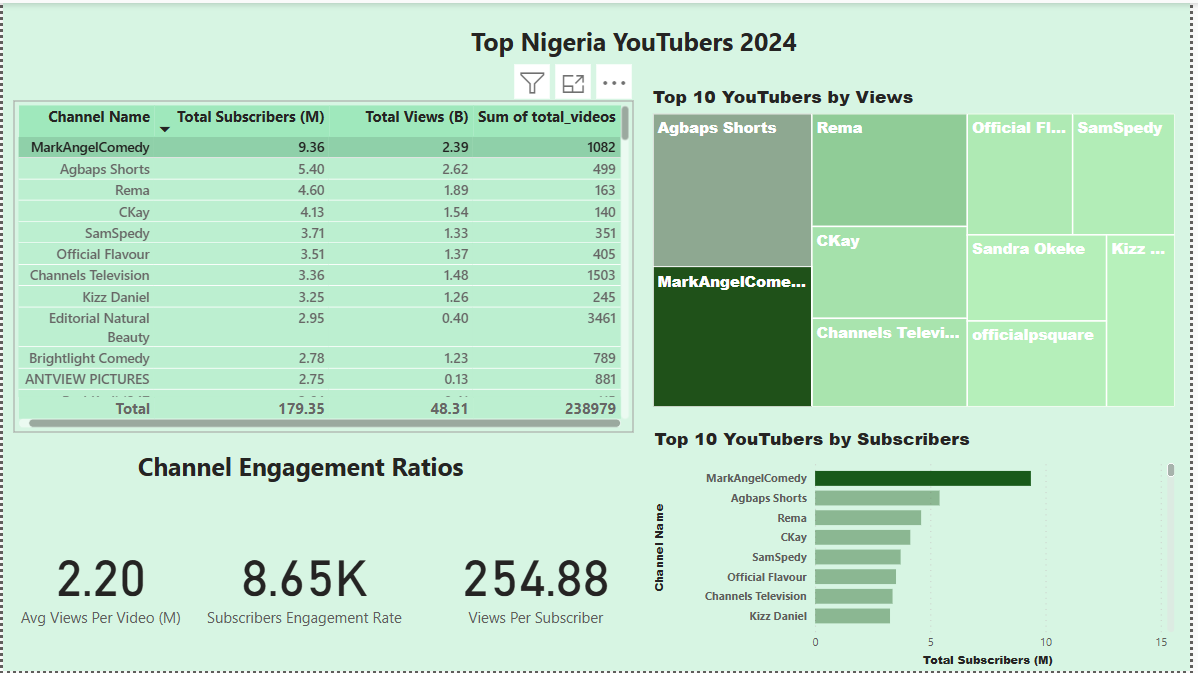

This screenshot's page, from the dashboard's own definition file:
{"tool":"powerbi","page":{"name":"Page 1","canvas":[1280,720],"ordinal":0},"visuals":[{"type":"textbox","box":[417,17.9,526.2,69.5],"z":0},{"type":"tableEx","fields":{"Values":["view_ng_youtubers2024.channelname","view_ng_youtubers2024.Total Subscribers (M)","view_ng_youtubers2024.Total Views","Sum(view_ng_youtubers2024.total_videos)"]},"box":[11.1,104.9,669.1,357.6],"z":1000},{"type":"treemap","title":"Top 10 YouTubers by Views","fields":{"Values":["view_ng_youtubers2024.Total Views (B)"],"Group":["view_ng_youtubers2024.channelname"]},"box":[695.7,87.4,572.8,352.7],"z":2000},{"type":"card","fields":{"Values":["view_ng_youtubers2024.Avg ViewS Per Video (M)"]},"box":[12.2,544.8,184.3,158],"z":3000},{"type":"card","fields":{"Values":["view_ng_youtubers2024.Views Per Subscriber"]},"box":[482,544.8,184.3,158],"z":4000},{"type":"card","fields":{"Values":["view_ng_youtubers2024.Subscribers Engagement Rate"]},"box":[210.6,544.8,228.9,158],"z":5000},{"type":"clusteredBarChart","title":"Top 10 YouTubers by Subscribers","fields":{"Category":["view_ng_youtubers2024.channelname"],"Y":["view_ng_youtubers2024.Total Subscribers (M)"]},"box":[697.3,456.3,571.1,265.3],"z":6000},{"type":"textbox","box":[32.4,475.9,577.2,52.7],"z":7000}]}

Visuals, with their boxes in screenshot pixels (x1, y1, x2, y2), scaled from the page's 1280x720 canvas onto the 1198x673 screenshot:
textbox: 390,17,883,82
tableEx - view_ng_youtubers2024.channelname x view_ng_youtubers2024.Total Subscribers (M): 10,98,637,432
"Top 10 YouTubers by Views" treemap: 651,82,1187,411
card - view_ng_youtubers2024.Avg ViewS Per Video (M): 11,509,184,657
card - view_ng_youtubers2024.Views Per Subscriber: 451,509,624,657
card - view_ng_youtubers2024.Subscribers Engagement Rate: 197,509,411,657
"Top 10 YouTubers by Subscribers" clusteredBarChart: 653,427,1187,672
textbox: 30,445,571,494
